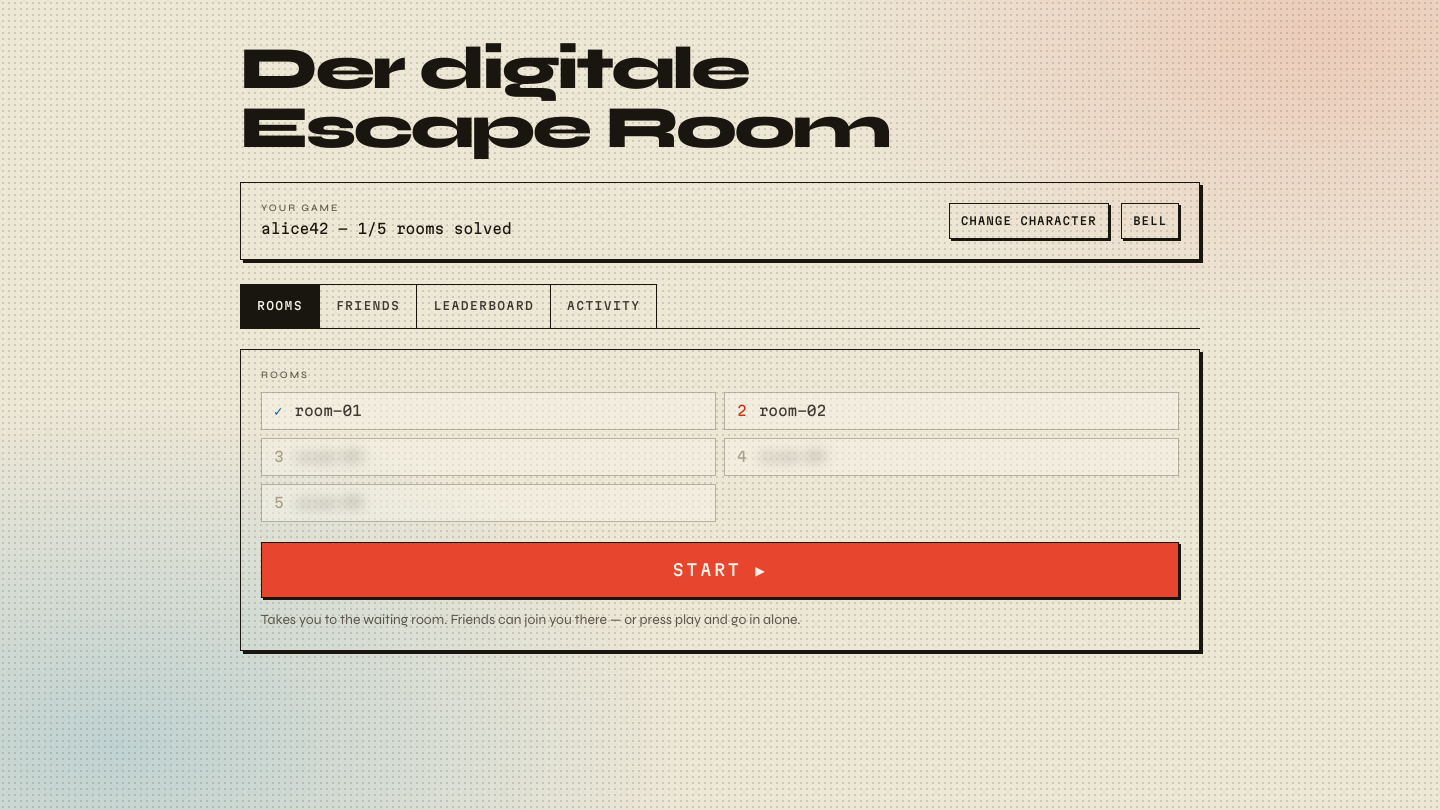
Test: App › signed in with a complete profile › lets you change your character afterwards, and back out of it
Expected: the text "alice42 — 1/5 rooms solved" is shown, [261, 219, 512, 239]
Click the button "Change character".
click(1029, 221)  # box [949, 203, 1109, 239]
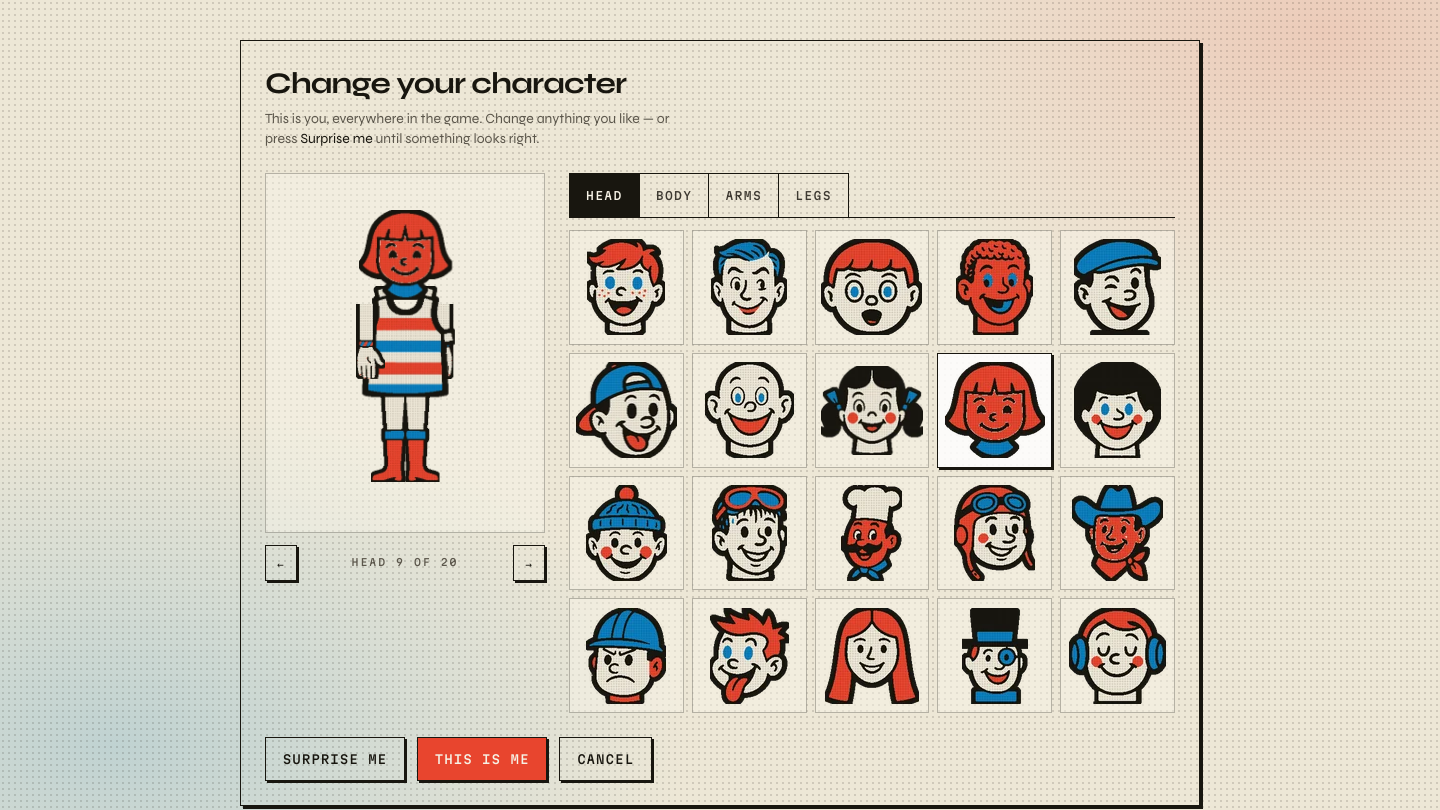
Now the heading "Change your character" is shown, box [265, 65, 626, 101]
# Backing out returns you to the game rather than to the sign-up gate.
Click the button "Cancel".
click(606, 759)  # box [559, 737, 652, 781]
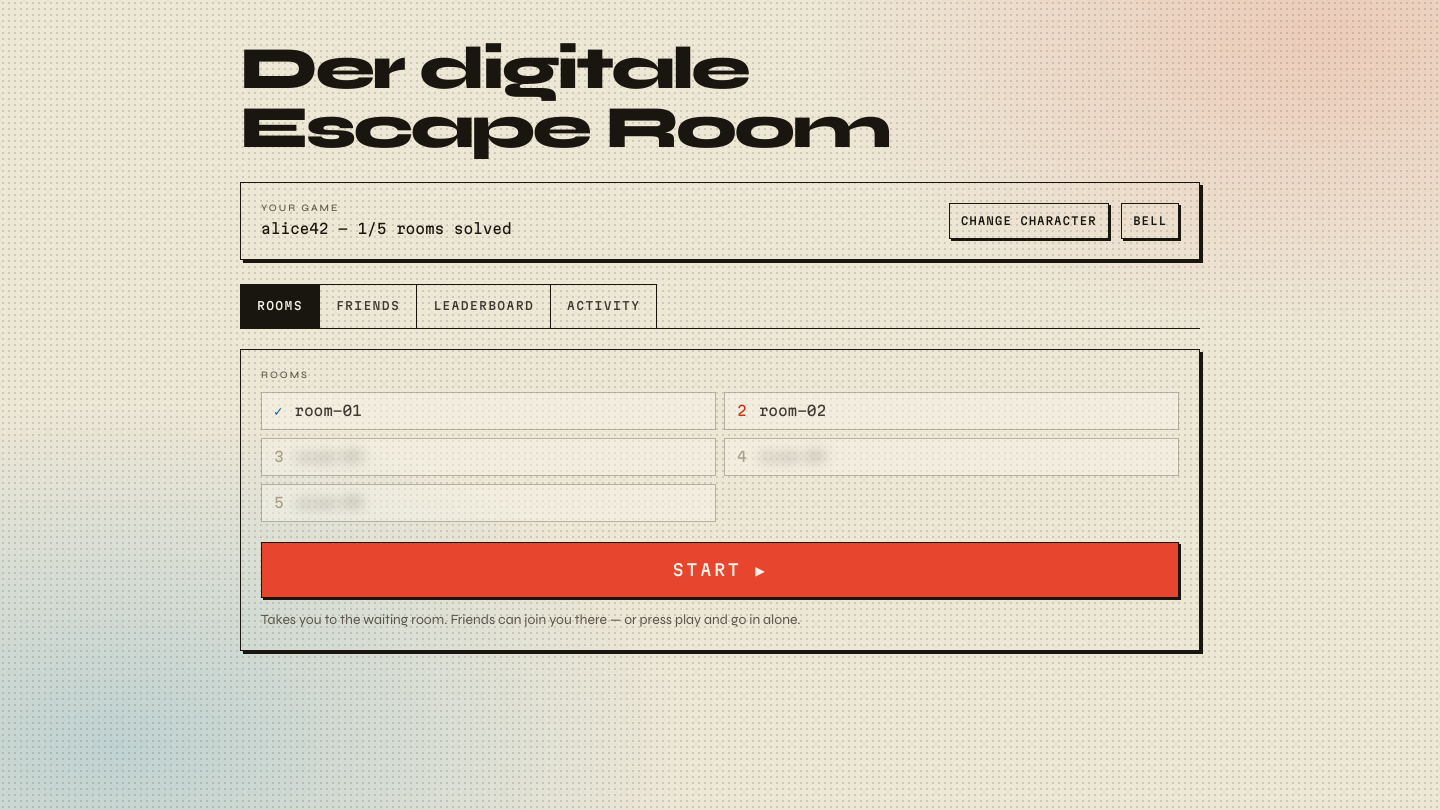
Now the list item with test id "room-01" is shown, box [261, 392, 716, 430]
